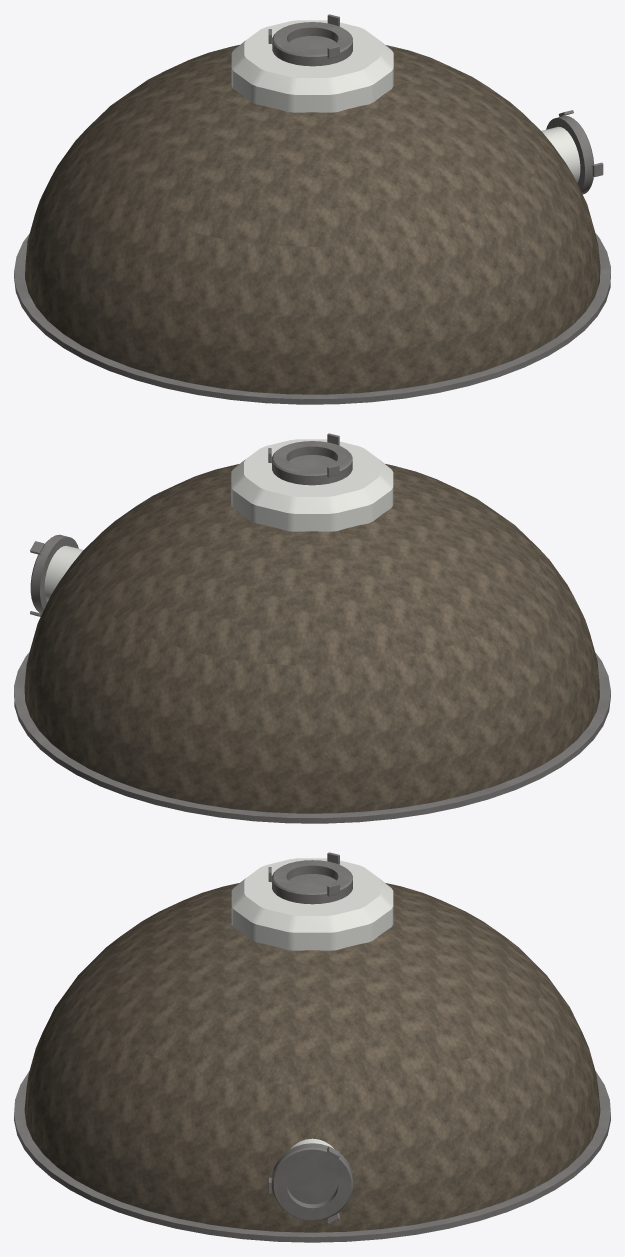
File: ax_station_16_dome_deployed.glb
3 views of the same model, one above another, from view 1: azimuth 30°, elevation 25°; view 2: azimuth 150°, elevation 25°; view 3: azimuth 270°, elevation 25° (orthographic).
Parts seen in each view (by area): view 1: regolith_cover, rigid_core, footing_ring, port_top, port_side, entry_tunnel; view 2: regolith_cover, rigid_core, footing_ring, port_top, port_side, entry_tunnel; view 3: regolith_cover, rigid_core, footing_ring, port_side, port_top, hatch_door_2.
Part boxes in pixels (x1=…): regolith_cover: x1=25, y1=45, x2=600, y2=394; rigid_core: x1=231, y1=20, x2=393, y2=112; footing_ring: x1=14, y1=233, x2=610, y2=404; port_top: x1=272, y1=22, x2=352, y2=66; port_side: x1=546, y1=116, x2=593, y2=194; entry_tunnel: x1=541, y1=126, x2=580, y2=182; regolith_cover: x1=24, y1=464, x2=599, y2=813; rigid_core: x1=231, y1=439, x2=393, y2=531; footing_ring: x1=14, y1=652, x2=610, y2=823; port_top: x1=272, y1=441, x2=352, y2=485; port_side: x1=30, y1=534, x2=78, y2=612; entry_tunnel: x1=44, y1=545, x2=83, y2=601; regolith_cover: x1=24, y1=883, x2=600, y2=1232; rigid_core: x1=231, y1=858, x2=393, y2=950; footing_ring: x1=14, y1=1071, x2=610, y2=1242; port_side: x1=272, y1=1143, x2=352, y2=1220; port_top: x1=272, y1=860, x2=352, y2=904; hatch_door_2: x1=286, y1=1161, x2=338, y2=1204.
Size of the model in its own units: 12.02 by 5.38 by 11.79.
3 materials, 2 textured.
